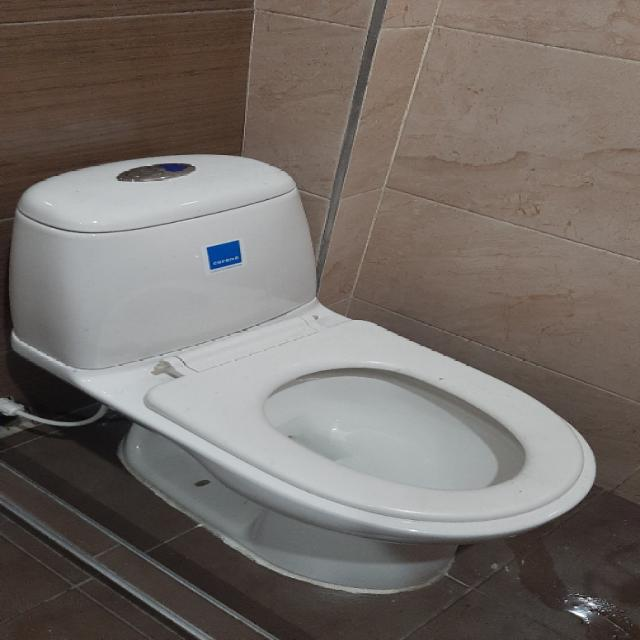toilet: (0, 146, 610, 602)
